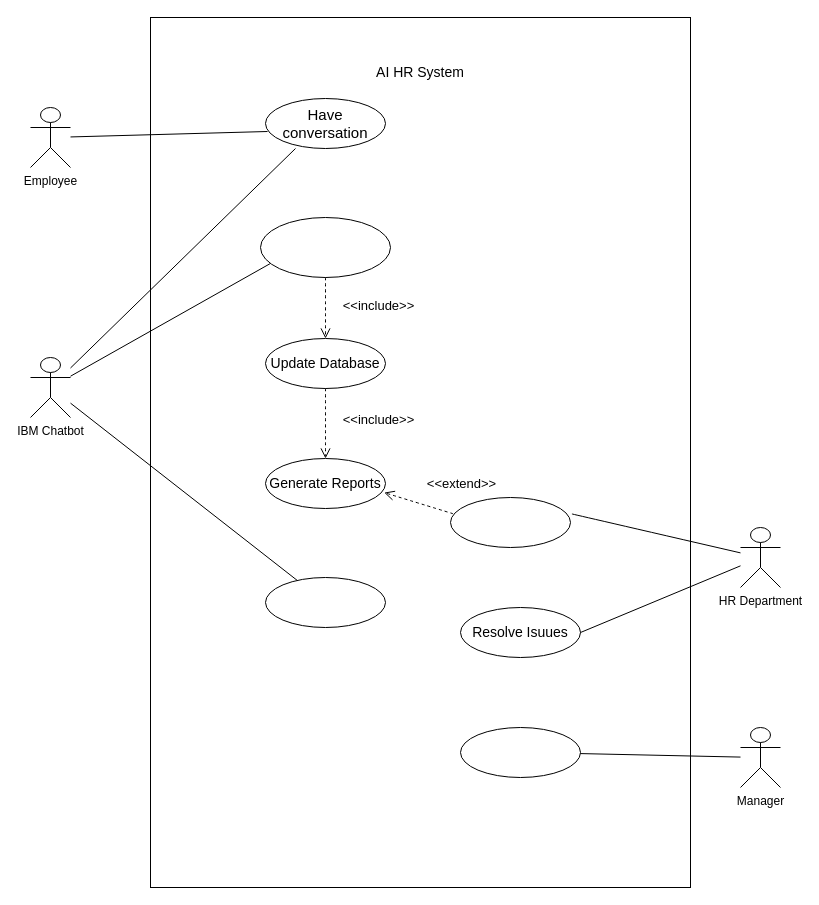
This 819x905 diagram has some shape labels left out. The shapes that lost their labels are listed below. From the top down, each one's centre as x and y in pixels, then its label:
At [325,247]: "Extract sentiments".
At [510,522]: "Access report".
At [325,602]: "Notify HR of issues".
At [520,752]: "Acess Database".
